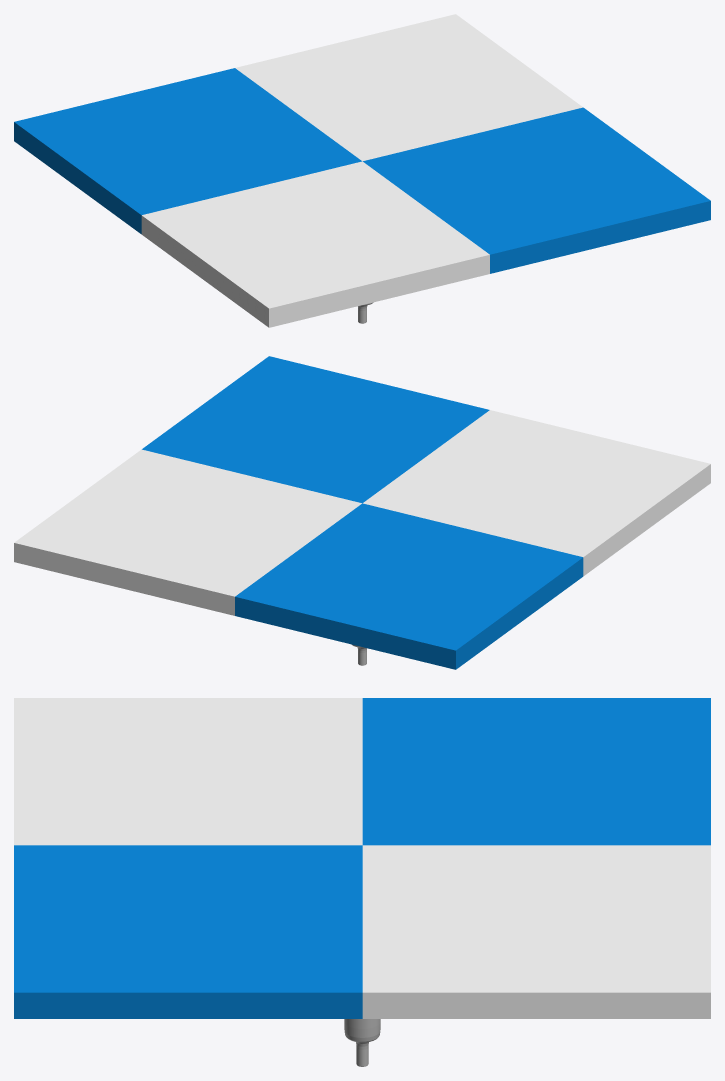
The model's file is silver_attack_board.fbx.
3 views of the same model, one above another, from view 1: azimuth 30°, elevation 25°; view 2: azimuth 150°, elevation 25°; view 3: azimuth 270°, elevation 25° (orthographic). The views are drawn at different scales.
Visible parts, largest first — view 1: Cylinder; view 2: Cylinder; view 3: Cylinder.
Boxes of the visible parts, <box> form: Cylinder: <box>14,14,710,327</box>; Cylinder: <box>14,356,710,669</box>; Cylinder: <box>14,698,710,1066</box>.
Bounding box in the file's own units: 11.43 × 3.97 × 11.43.
